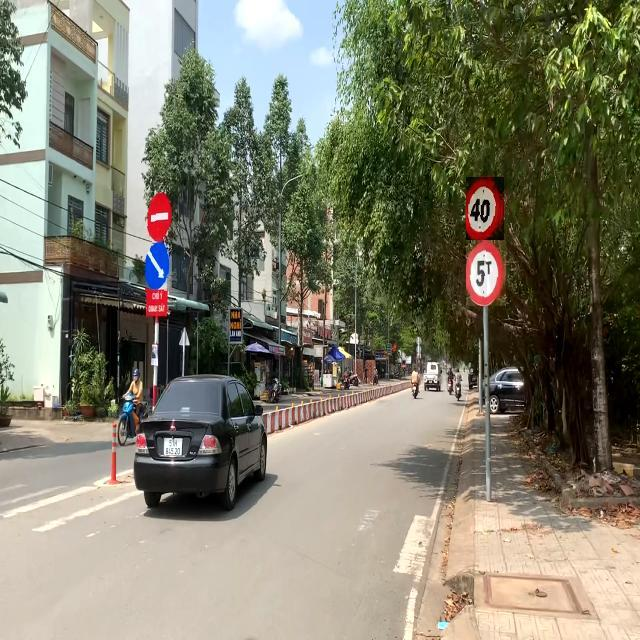P-102: (147, 192, 173, 241)
P-115: (466, 240, 506, 306)
P-127: (466, 177, 504, 240)
R-302a: (145, 238, 171, 291)
